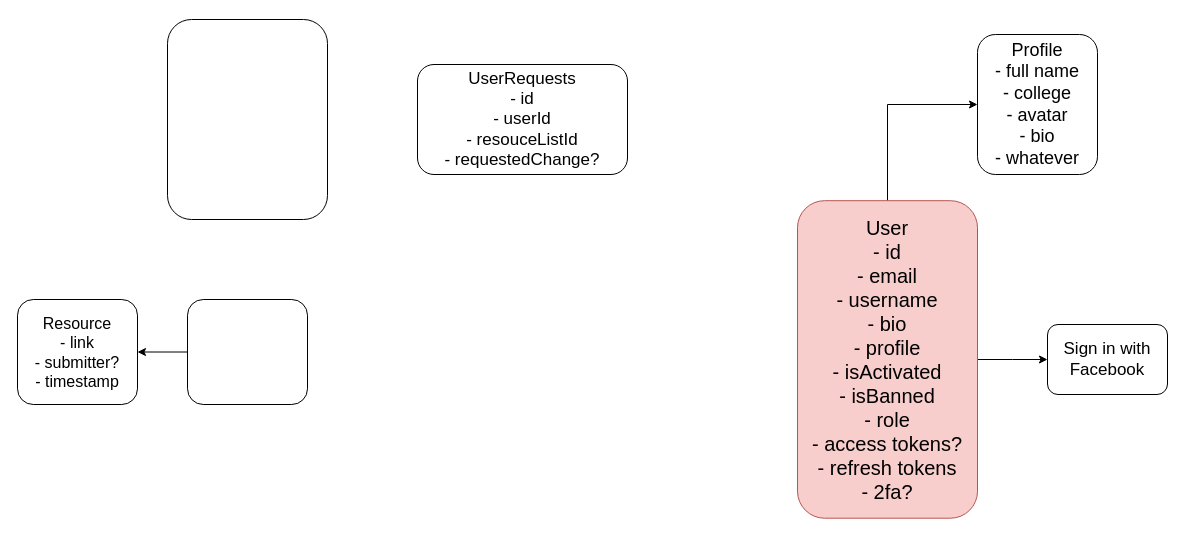
Some shapes in this 1185 by 536 pixel diagram are drawn without their labels. The shapes that lost their labels are listed below. From the top down, each one's centre as x and y in pixels, then its label:
At (x=247, y=119): "BlogPosts - isApproved - reason - content - userId - timestamp - id - visits".
At (x=247, y=351): "ResourceList - type - id - resources []".
